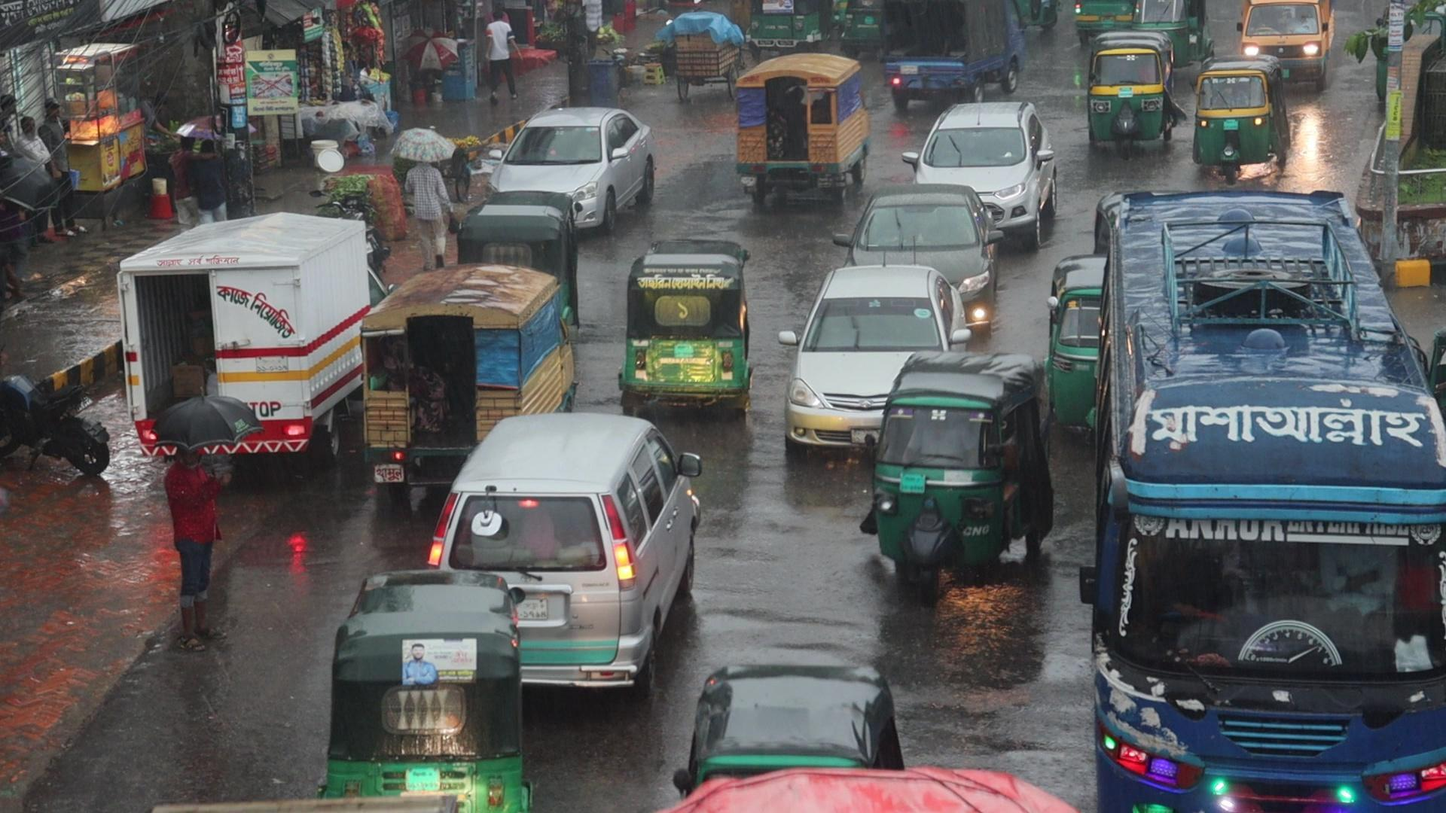Bus: (1091, 190, 1446, 813)
Car: (432, 408, 704, 618), (778, 264, 973, 412), (829, 181, 1005, 284), (902, 97, 1057, 194)
Truck: (354, 263, 574, 419), (729, 51, 869, 204), (882, 0, 1026, 100)
